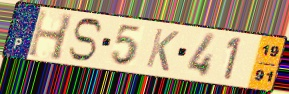1: (224, 36, 243, 82)
4: (184, 32, 217, 80)
5: (109, 23, 146, 67)
H: (25, 8, 75, 63)
K: (144, 26, 182, 74)
S: (66, 17, 105, 63)
